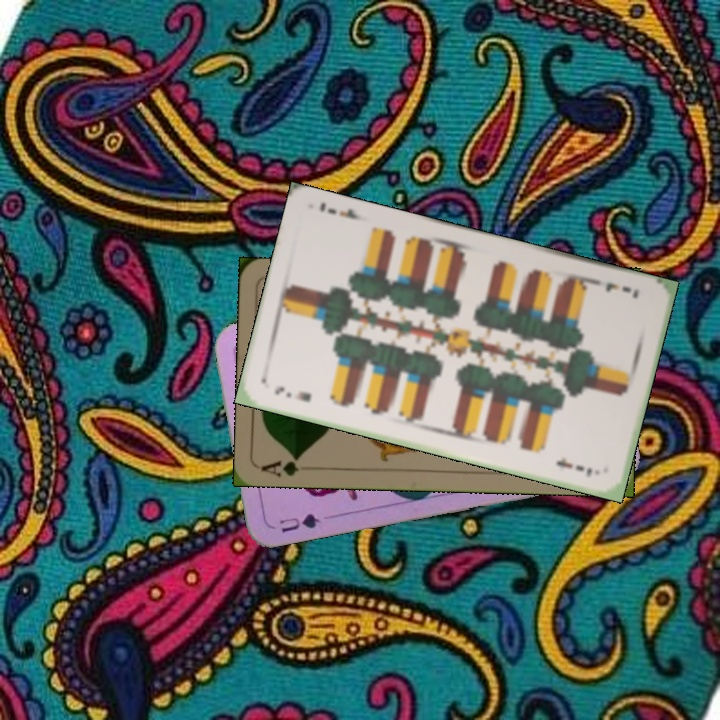E7: (270, 382, 314, 405), (601, 278, 641, 302)
GA: (258, 452, 303, 479)
GU: (275, 509, 324, 535)
